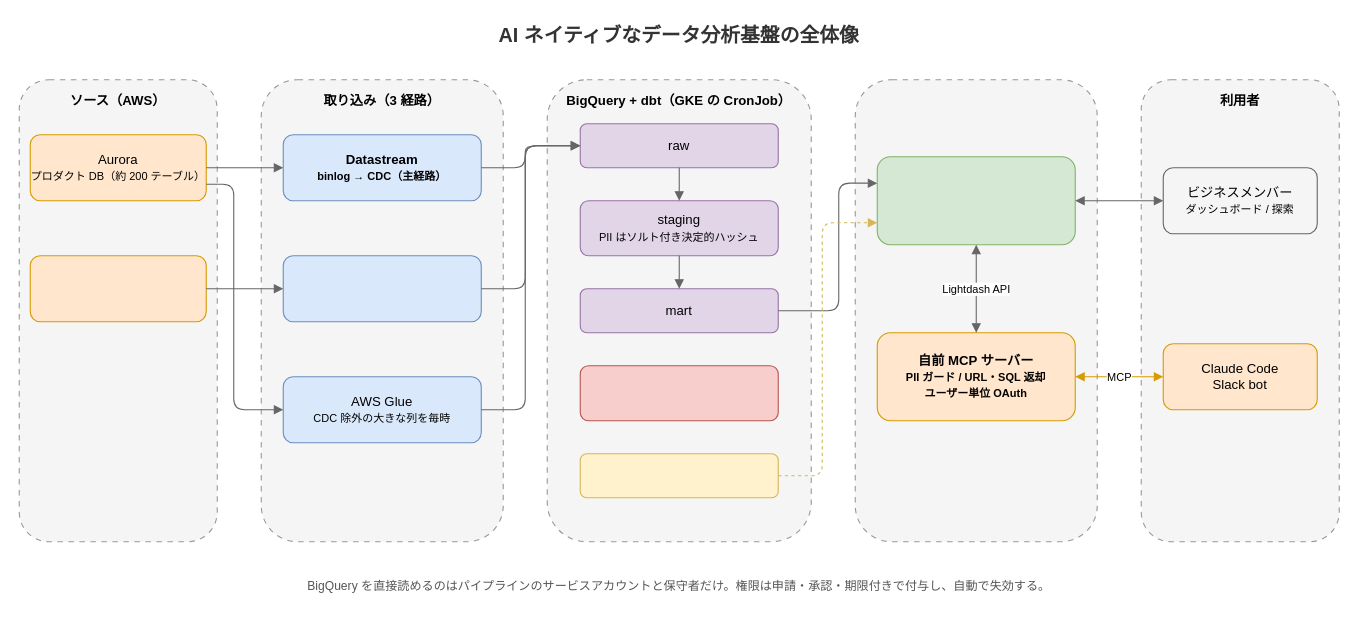
Image size: 1359x626. Some labels were removed from this diagram. The shapes that lost their labels are listed below. From the top down, each one's box as (x1, y1, x2, y2) in pixels, then its label:
(876, 156, 1075, 245): Lightdash OSS / セルフホスト user_attributes で テーブル分離・行レベル制御
(29, 255, 206, 322): AWS のコストデータ
(282, 255, 481, 322): Avro を GCS に push スナップショット / 外部テーブル
(854, 79, 1097, 542): セマンティックレイヤー / 入口
(579, 365, 778, 421): <table>_pii 平文が必要な PII を隔離
(579, 453, 778, 498): schema.yml = 唯一の定義源
